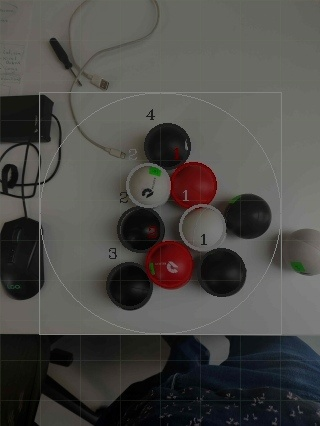Pelota blanca: (66, 0, 161, 91), (68, 96, 158, 160), (177, 204, 227, 254), (223, 193, 273, 240), (124, 161, 171, 208), (276, 228, 320, 278)
Pelota negra: (0, 217, 46, 302), (199, 246, 246, 299), (106, 260, 153, 312), (116, 206, 166, 254), (223, 193, 273, 240), (143, 121, 193, 166)
Pelota roja: (143, 238, 195, 291), (169, 161, 217, 208)
